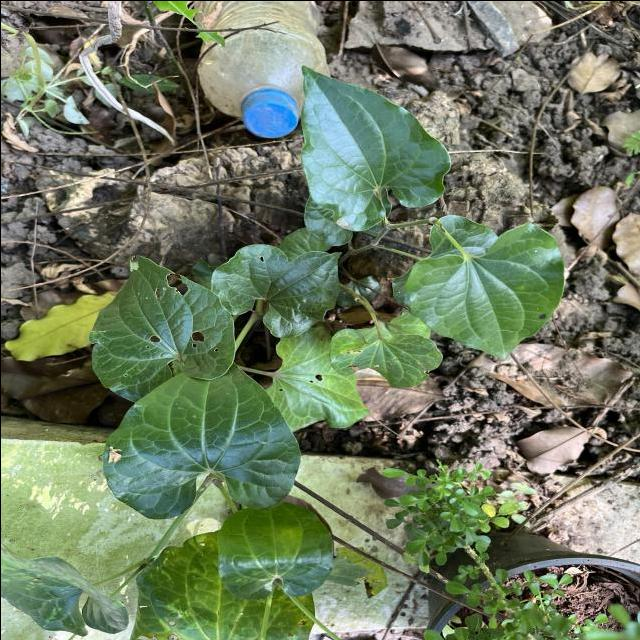Piper longum: (99, 360, 303, 520), (296, 58, 454, 235)
